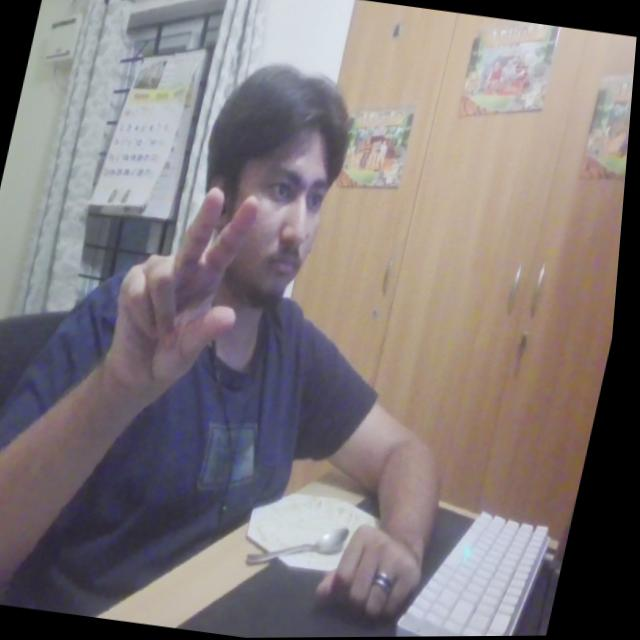no: (98, 174, 271, 415)
